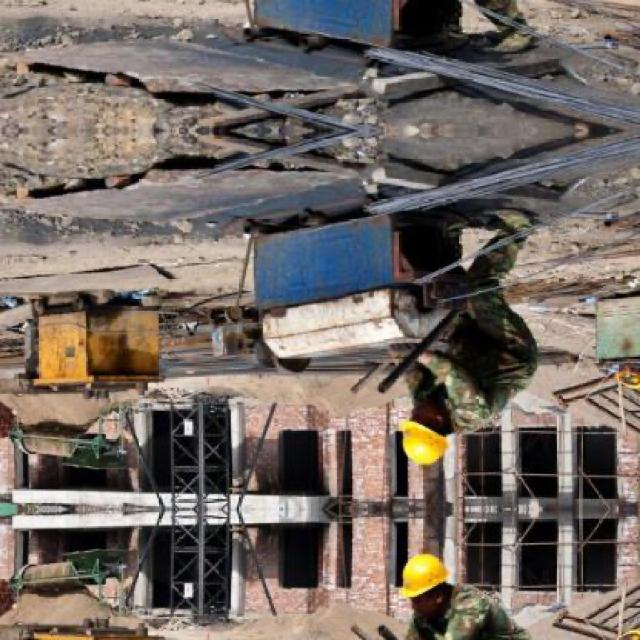con casco: (371, 374, 503, 497), (384, 554, 505, 640)
